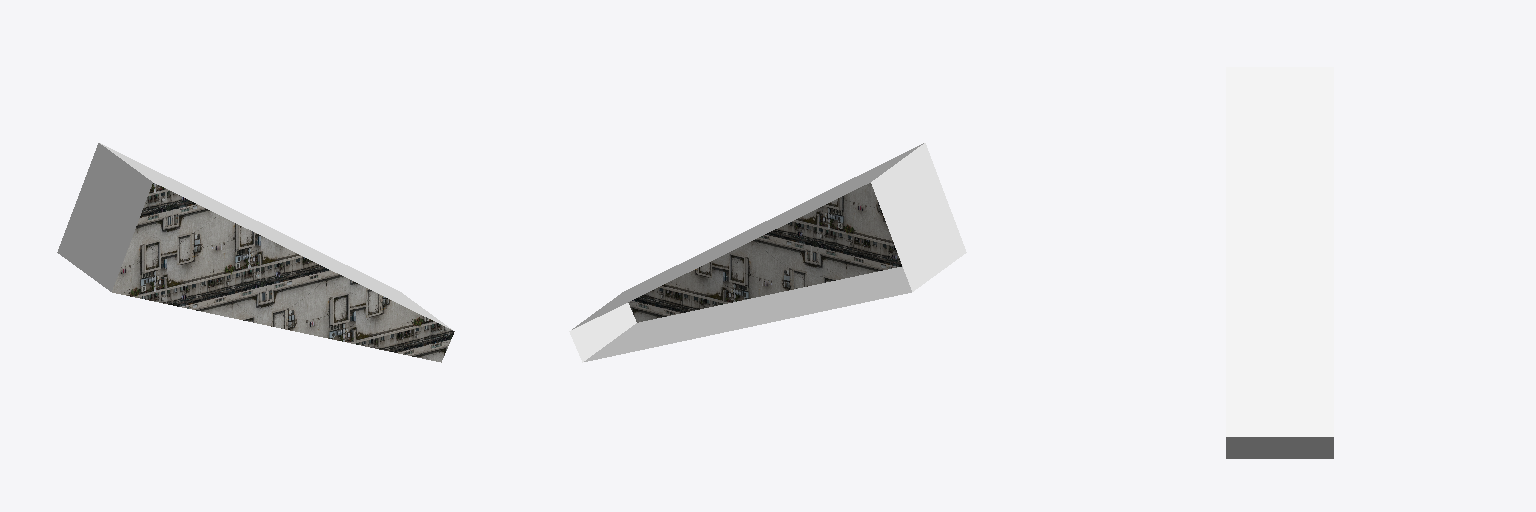
The picture shows the model from 3 angles: view 1: azimuth 30°, elevation 25°; view 2: azimuth 150°, elevation 25°; view 3: azimuth 270°, elevation 25°; orthographic projection.
Visible parts, largest first — view 1: Building; view 2: Building; view 3: Building.
Part boxes in pixels (x1,y1,x2,y2): Building: (57, 143, 454, 362); Building: (569, 143, 966, 362); Building: (1226, 67, 1333, 458).
Size of the model in its own units: 32.74 by 22.86 by 9.
2 materials, 1 textured.